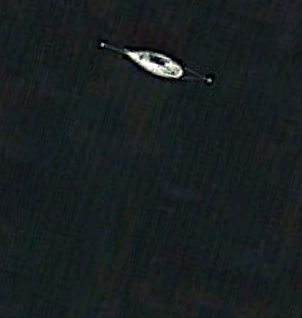boat: (121, 48, 184, 80)
